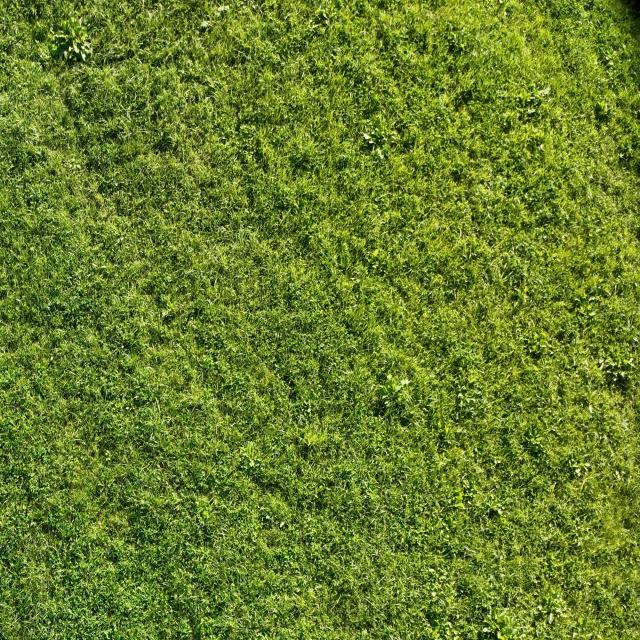rumex: (446, 362, 497, 427), (49, 14, 102, 66), (594, 337, 640, 393), (382, 369, 426, 422), (514, 81, 557, 129), (558, 442, 601, 484), (226, 436, 267, 478), (438, 18, 478, 61), (358, 115, 394, 162), (596, 42, 639, 78), (194, 4, 233, 39), (305, 4, 340, 34), (56, 147, 85, 176)
